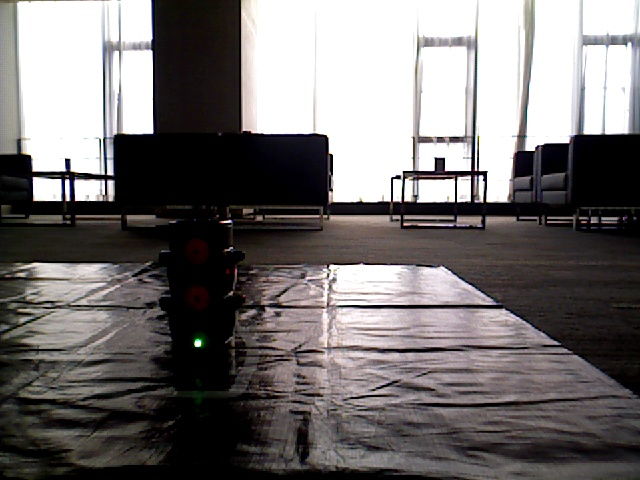green: (178, 218, 226, 348)
